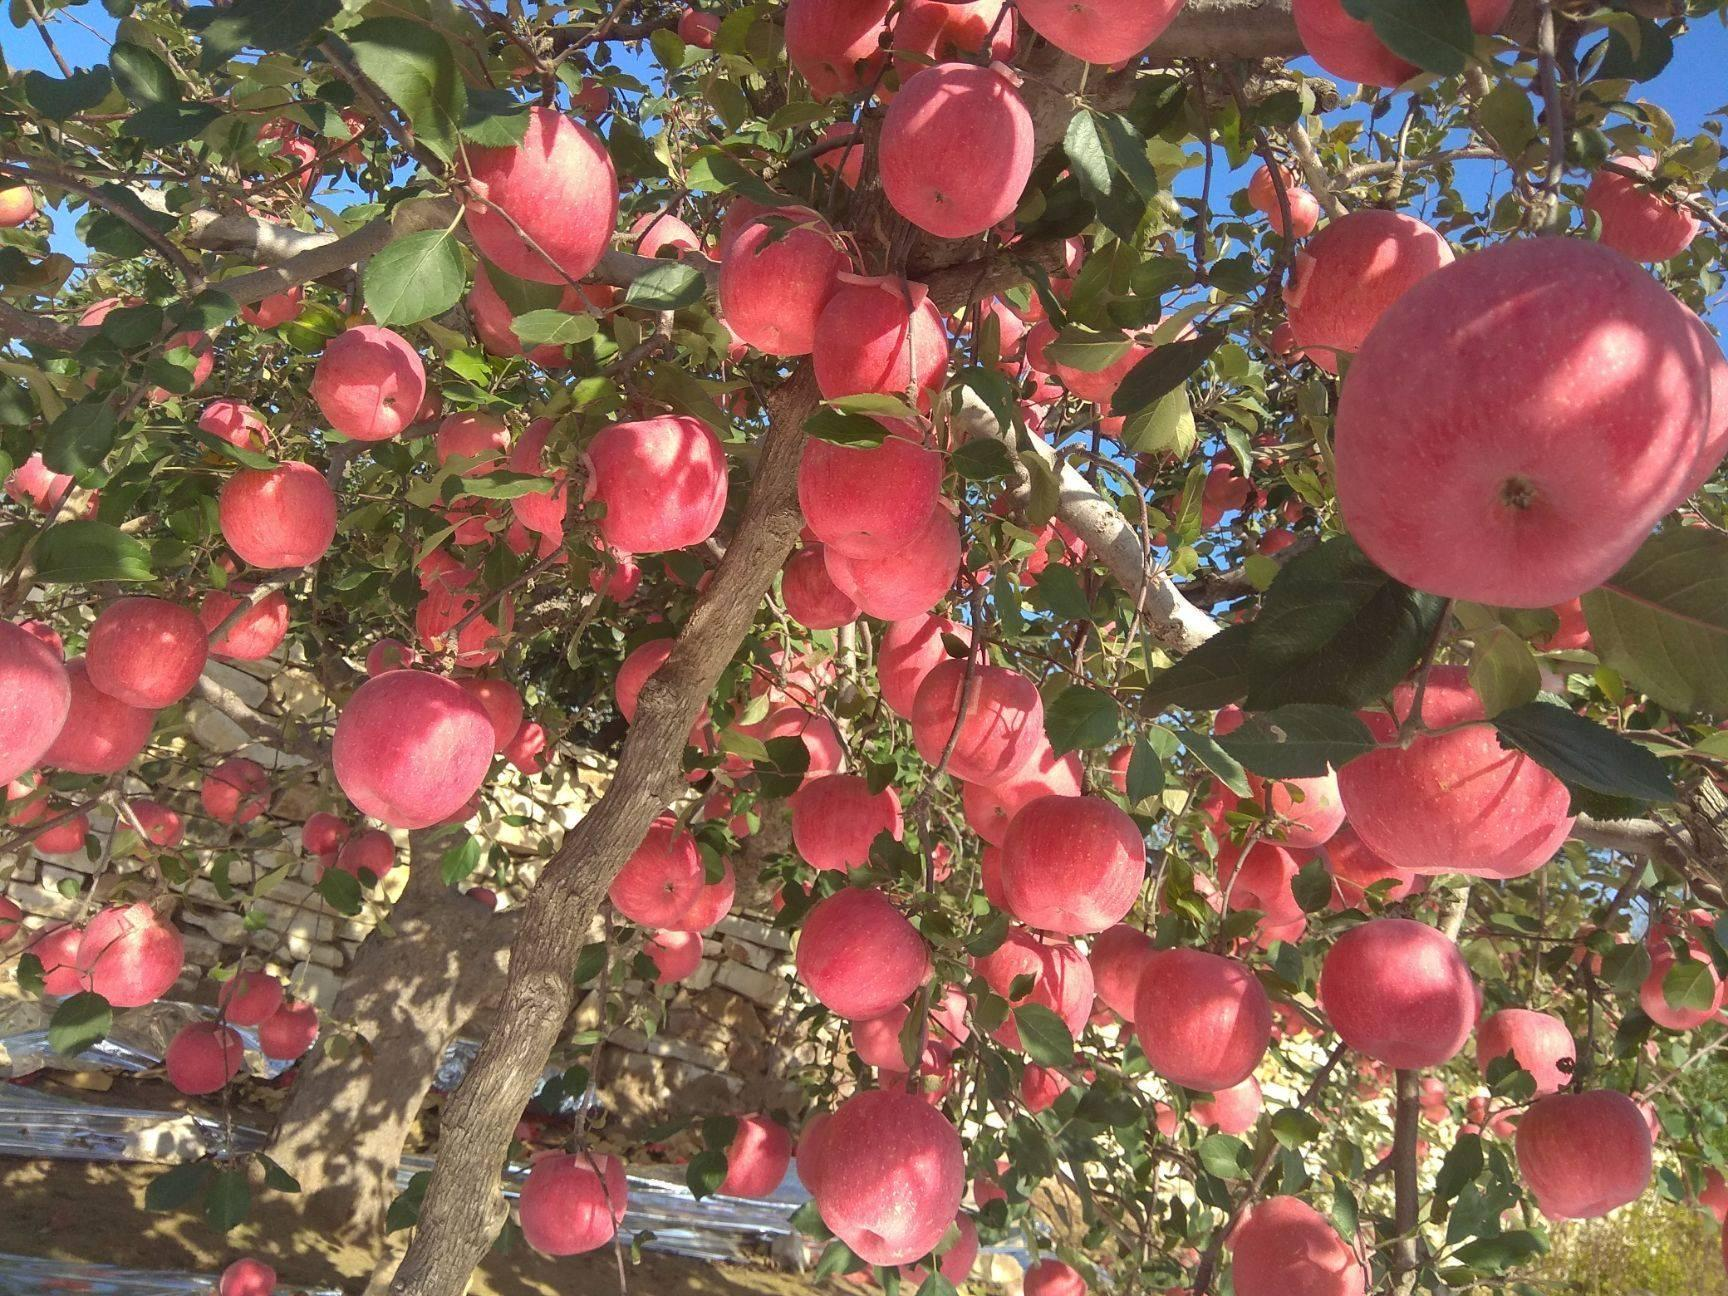apple: (1327, 226, 1710, 606), (445, 99, 615, 287), (875, 59, 1038, 241), (329, 660, 497, 832), (808, 1086, 967, 1263), (1316, 918, 1478, 1070), (795, 408, 946, 561), (580, 412, 727, 558), (999, 795, 1146, 939), (1133, 941, 1265, 1095), (1514, 1084, 1655, 1222), (792, 888, 931, 1022), (82, 591, 205, 711), (216, 463, 340, 583), (310, 325, 429, 442), (1223, 1199, 1365, 1295), (517, 1150, 631, 1255), (1469, 1006, 1577, 1100), (1020, 1258, 1086, 1296)
